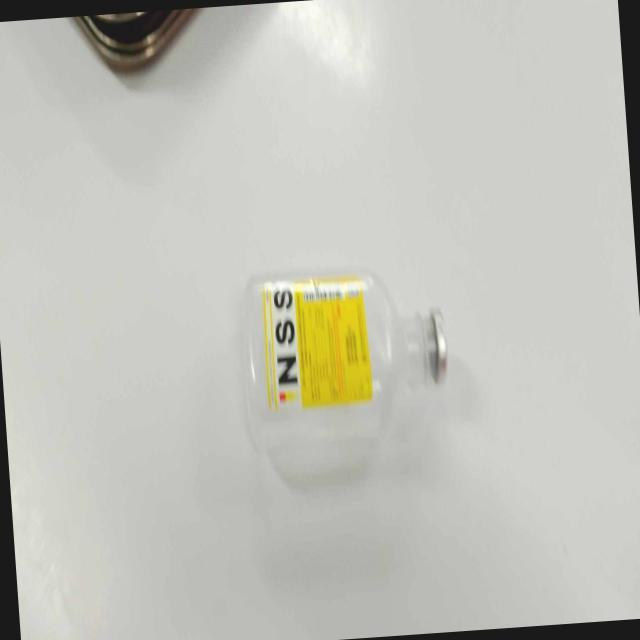General: (2, 0, 639, 638), (260, 275, 379, 413)
Sharps: (243, 268, 450, 488)
